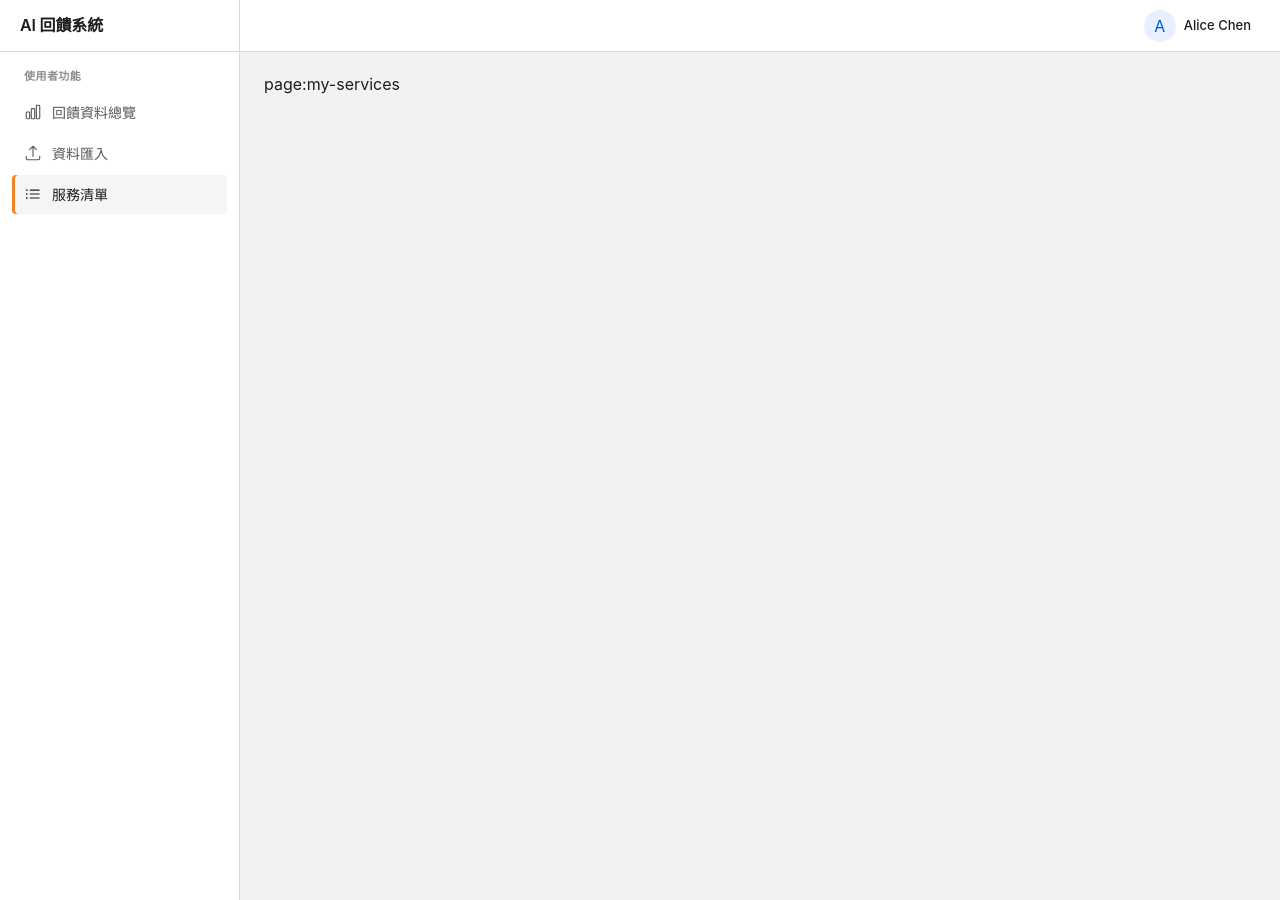
Test: Layout account menu › opens the security settings and closes the menu
Click the button "A Alice Chen".
click(1199, 26)  # box [1139, 4, 1260, 46]
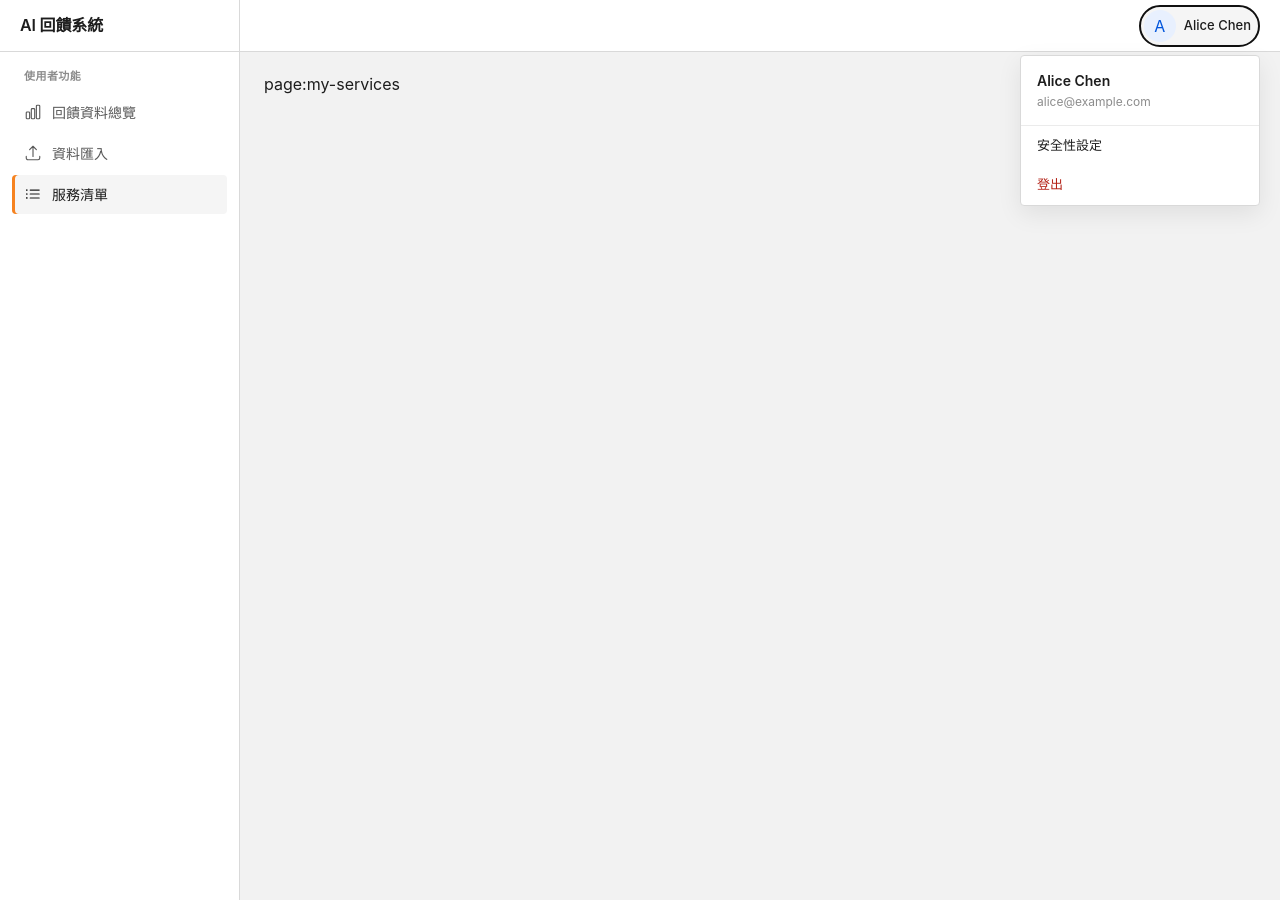
Click the menu item "安全性設定".
click(1070, 144)  # box [1037, 136, 1102, 152]
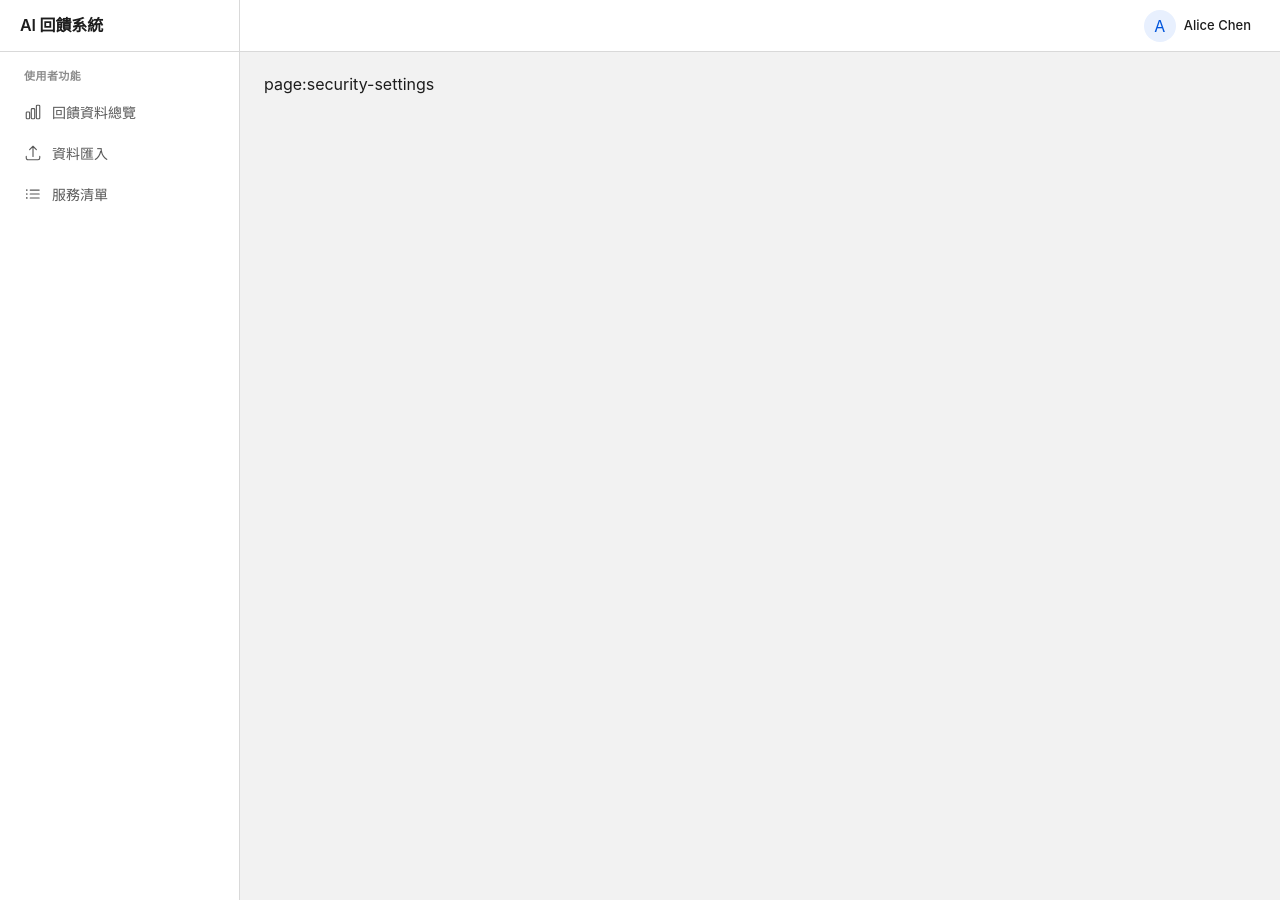
Expected: the text "page:security-settings" is shown, [264, 74, 434, 94]
Expected: the menu is gone
